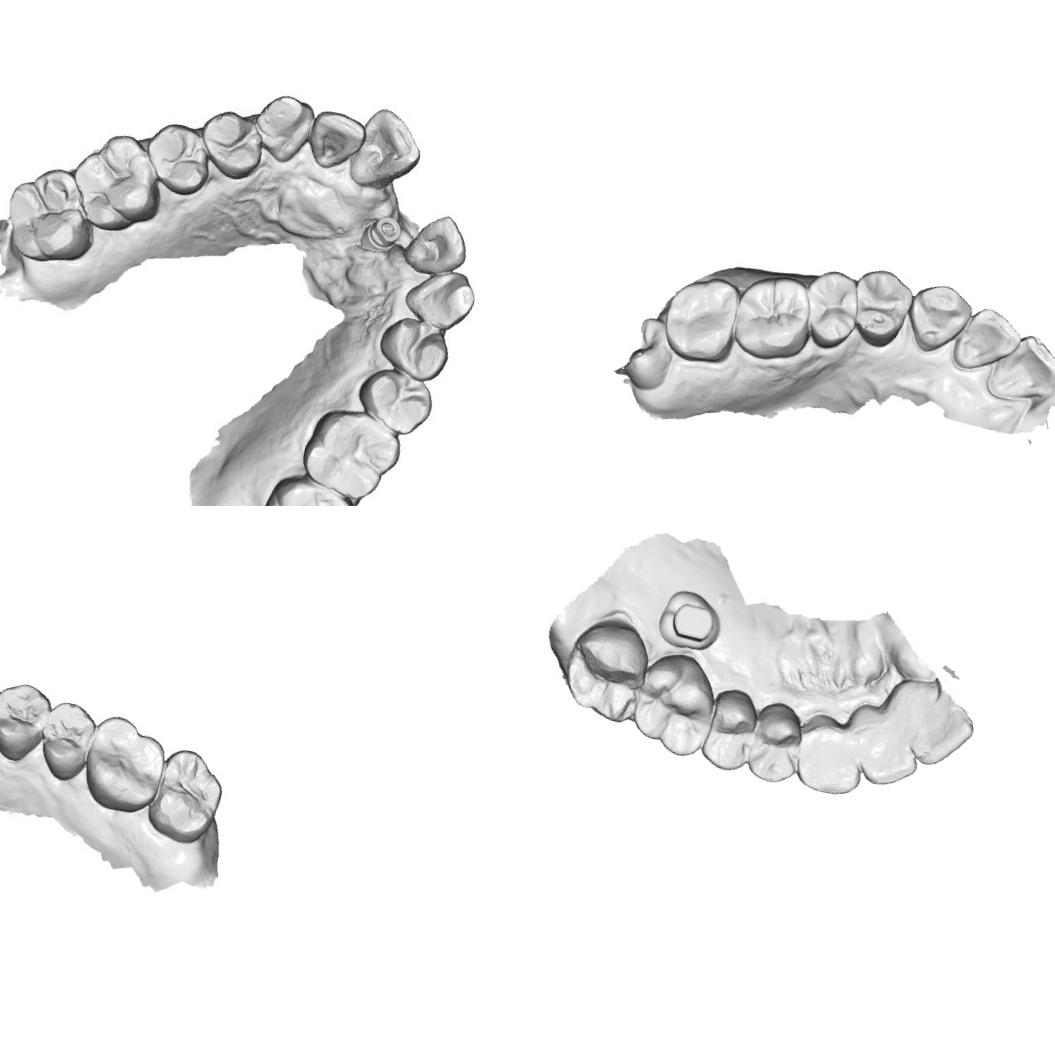canine: (792, 711, 870, 800), (900, 278, 975, 360), (247, 86, 318, 168), (399, 262, 477, 334)
implant: (350, 205, 410, 263)
incisor: (890, 689, 978, 773), (847, 707, 928, 794), (350, 105, 424, 193), (983, 327, 1055, 413), (948, 302, 1026, 380), (408, 206, 469, 282), (305, 105, 366, 174)
molar: (62, 123, 170, 239), (549, 612, 657, 728), (0, 157, 106, 268), (624, 646, 722, 758), (302, 407, 407, 506), (77, 710, 171, 820), (143, 742, 231, 850), (656, 268, 745, 368), (728, 268, 815, 368), (255, 467, 363, 506)
premolar: (347, 362, 441, 440), (192, 98, 271, 184), (844, 265, 917, 354), (694, 684, 762, 776), (373, 312, 456, 385), (144, 119, 220, 196), (35, 697, 100, 786), (799, 266, 865, 352), (746, 697, 807, 789), (0, 677, 54, 768)
